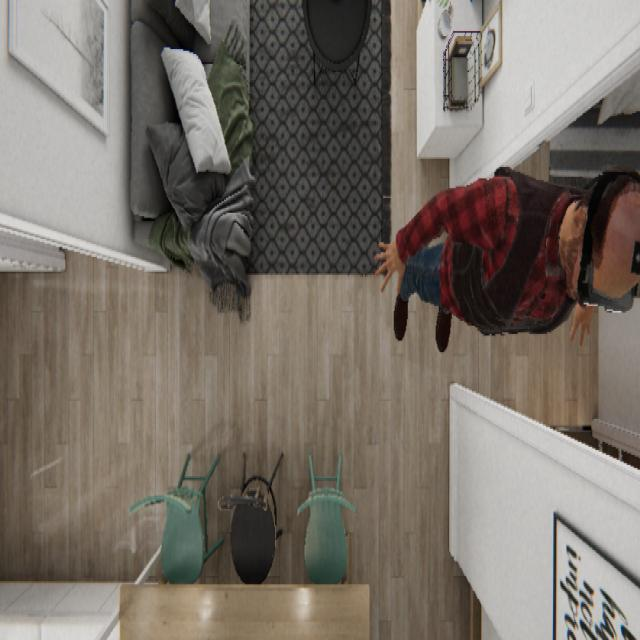Human: (374, 162, 638, 352)
